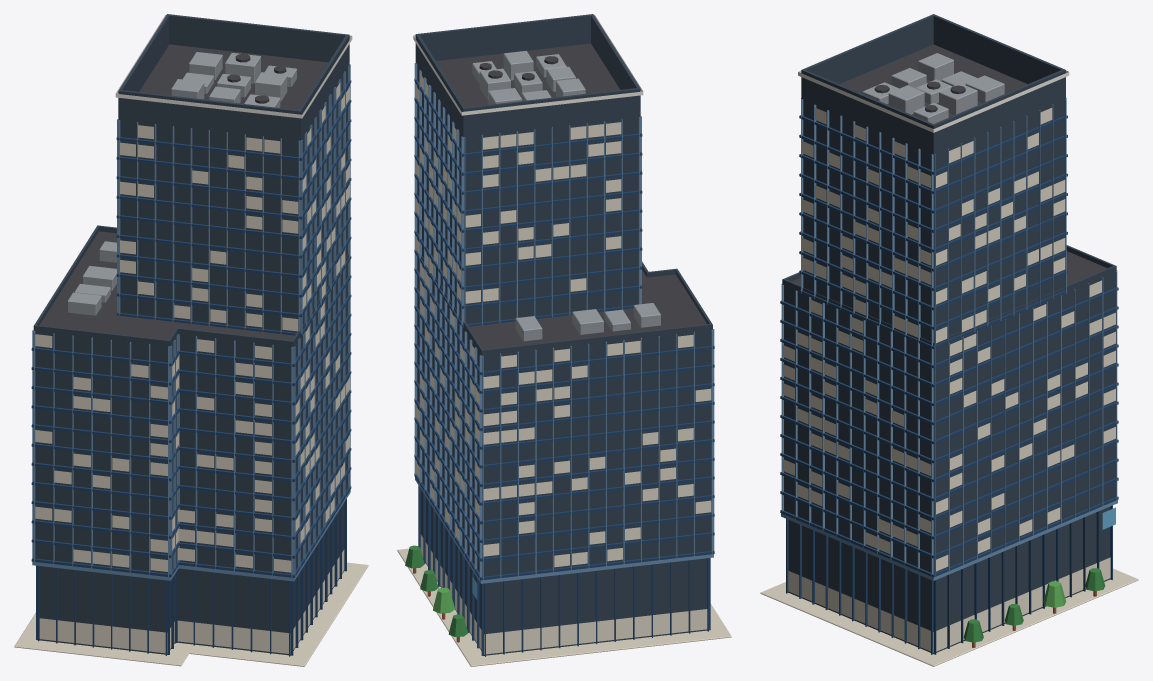
File: 222-2nd-street.glb
The picture shows the model from 3 angles, left to right: view 1: azimuth 30°, elevation 25°; view 2: azimuth 150°, elevation 25°; view 3: azimuth 270°, elevation 25°; orthographic projection. The views are drawn at different scales.
Visible parts, largest first — view 1: 222-2nd-street_body, 222-2nd-street_night_glow; view 2: 222-2nd-street_body, 222-2nd-street_night_glow; view 3: 222-2nd-street_body, 222-2nd-street_night_glow.
Part boxes in pixels (bbox=[...]): 222-2nd-street_body: bbox=[14, 14, 368, 666]; 222-2nd-street_night_glow: bbox=[35, 15, 352, 653]; 222-2nd-street_body: bbox=[397, 14, 731, 666]; 222-2nd-street_night_glow: bbox=[413, 14, 711, 654]; 222-2nd-street_body: bbox=[760, 14, 1138, 666]; 222-2nd-street_night_glow: bbox=[783, 70, 1115, 652].
Bounding box in the file's own units: 76.79 × 113 × 72.69.
